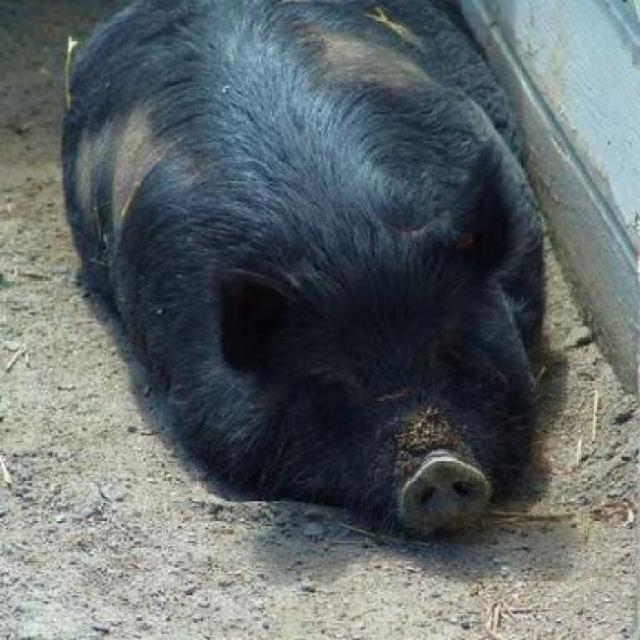pig: (0, 0, 578, 581)
